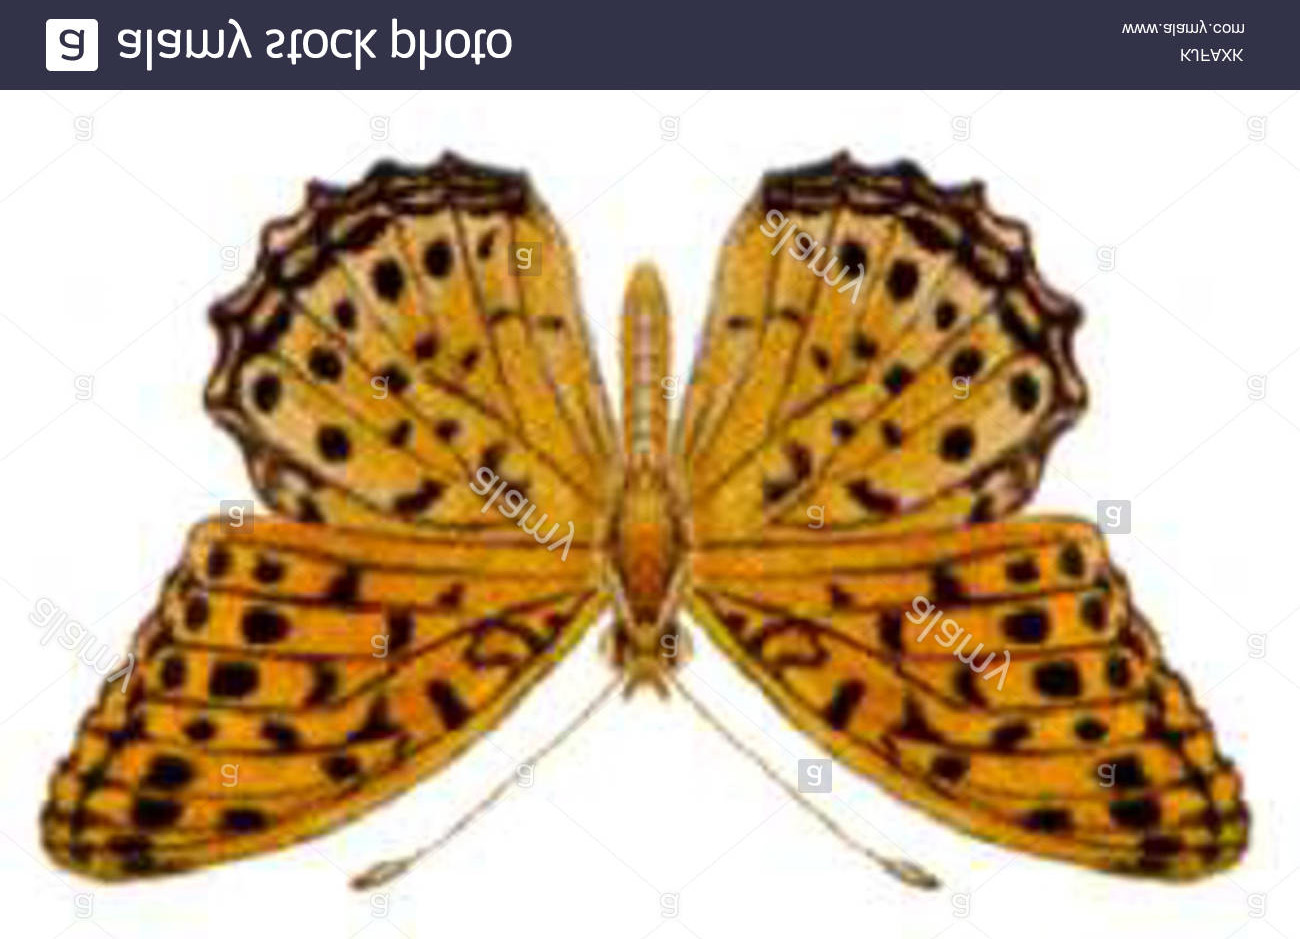Argyreus hyperbius: (41, 140, 1262, 897)
butterfly: (39, 138, 1260, 895)
